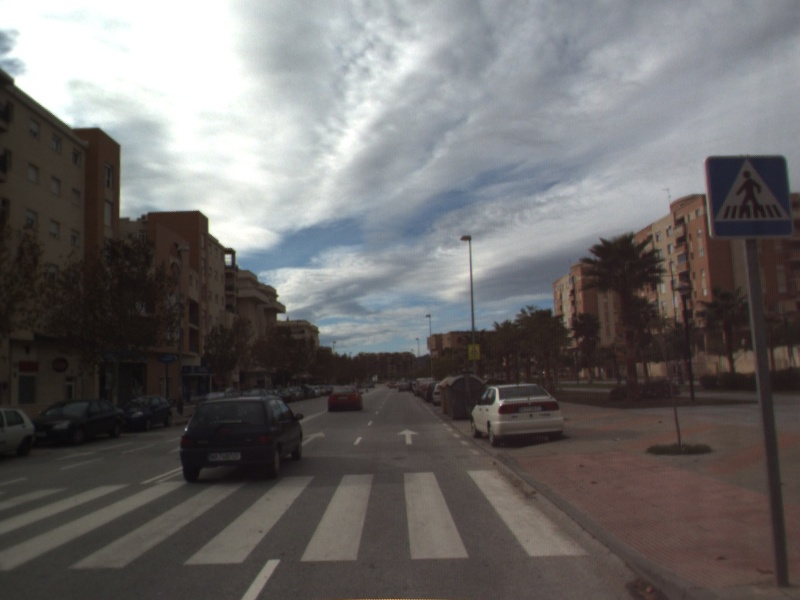STRAIGHT: (395, 427, 421, 446), (301, 429, 328, 447)
